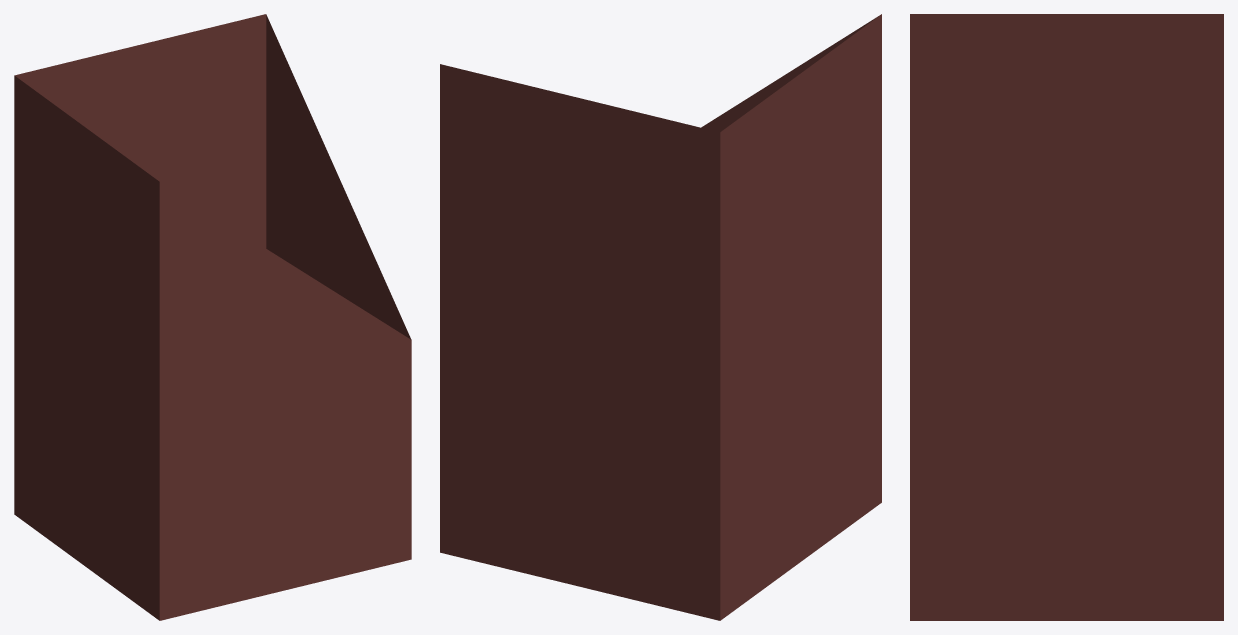
Rendered from ColumnCorner_1.fbx.
3 renders of one model, left to right at view 1: azimuth 30°, elevation 25°; view 2: azimuth 150°, elevation 25°; view 3: azimuth 270°, elevation 25°, orthographic. The views are drawn at different scales.
Visible parts, largest first — view 1: ColumnCorner_1; view 2: ColumnCorner_1; view 3: ColumnCorner_1.
Boxes of the visible parts, box(x1,y1,x2,y2) form: ColumnCorner_1: box(14, 14, 411, 620); ColumnCorner_1: box(440, 14, 881, 620); ColumnCorner_1: box(910, 14, 1223, 620).
Size of the model in its own units: 0.36 by 0.36 by 0.6.
